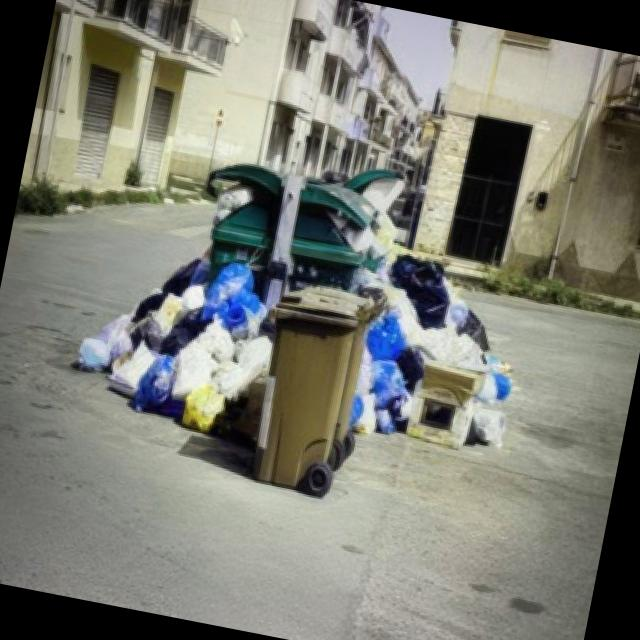high trash: (77, 252, 272, 432), (350, 255, 511, 448)
